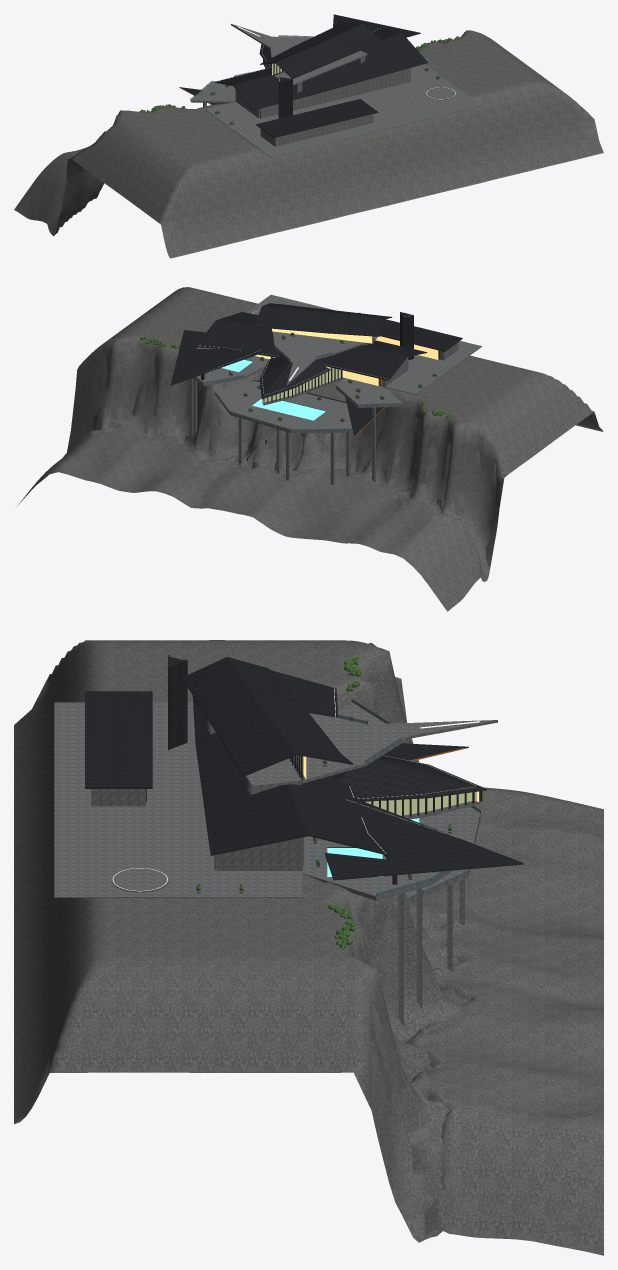
Rendered from ariel-home-512.glb.
The picture shows the model from 3 angles, top to bottom: view 1: azimuth 30°, elevation 25°; view 2: azimuth 150°, elevation 25°; view 3: azimuth 270°, elevation 25°; orthographic projection. The views are drawn at different scales.
Visible parts, largest first — view 1: Mansion_LOD0_mesh, Mansion_LOD1_mesh; view 2: Mansion_LOD0_mesh, Mansion_LOD1_mesh; view 3: Mansion_LOD0_mesh, Mansion_LOD1_mesh.
Part boxes in pixels (x1,y1,x2,y2): Mansion_LOD0_mesh: [14, 14, 594, 257]; Mansion_LOD1_mesh: [19, 32, 603, 258]; Mansion_LOD0_mesh: [23, 287, 602, 611]; Mansion_LOD1_mesh: [18, 289, 603, 604]; Mansion_LOD0_mesh: [14, 640, 603, 1255]; Mansion_LOD1_mesh: [14, 643, 603, 1247].
Size of the model in its own units: 400 by 163 by 250.
10 materials, 6 textured.
